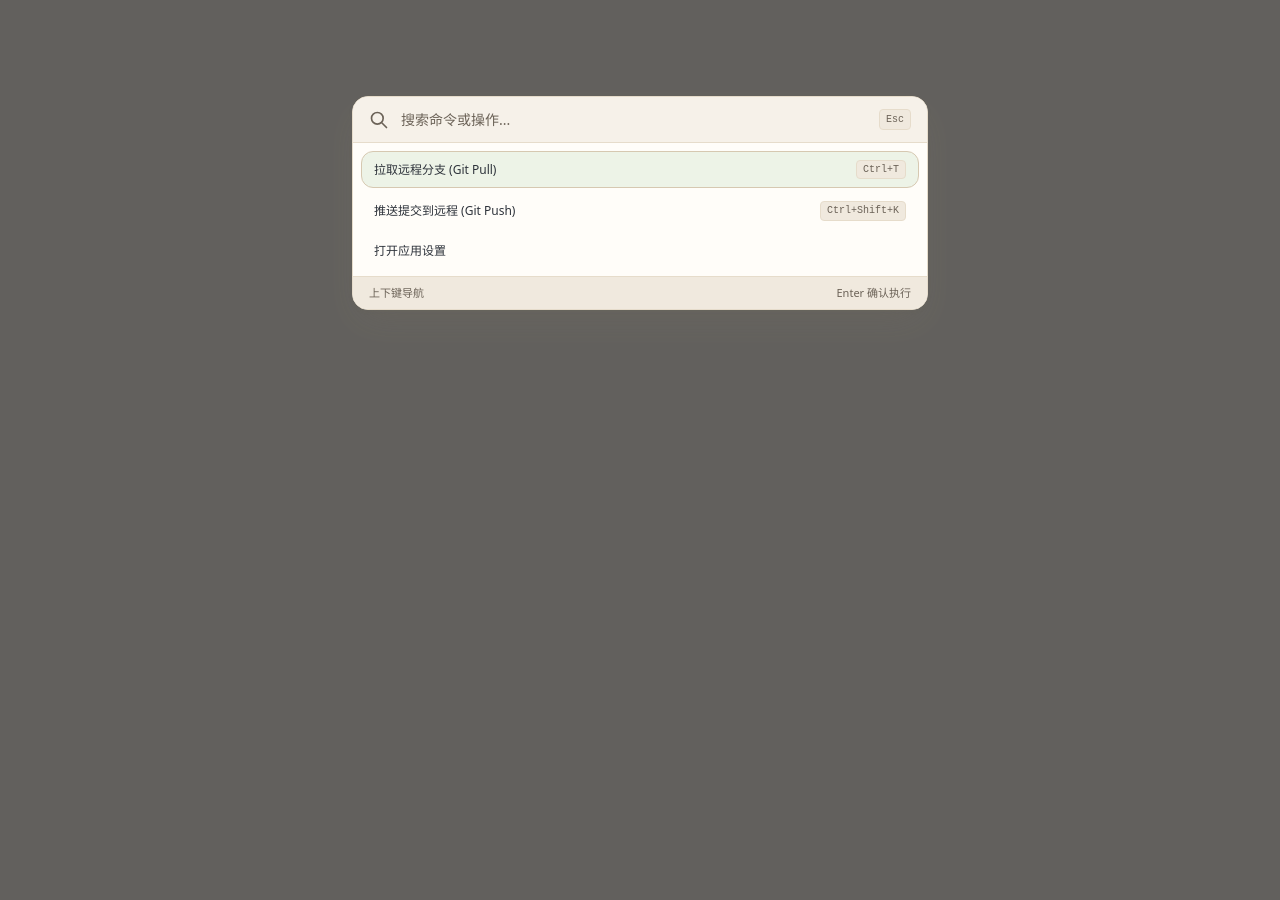
Test: CommandPalette › renders command list and filters by input
Expected: the text "拉取远程分支 (Git Pull)" is shown, [374, 162, 496, 178]
Expected: the text "推送提交到远程 (Git Push)" is shown, [374, 203, 516, 219]
Type "推送" into the field with placeholder "搜索命令或操作...".
click(634, 120); type("推送")  # box [401, 110, 867, 130]
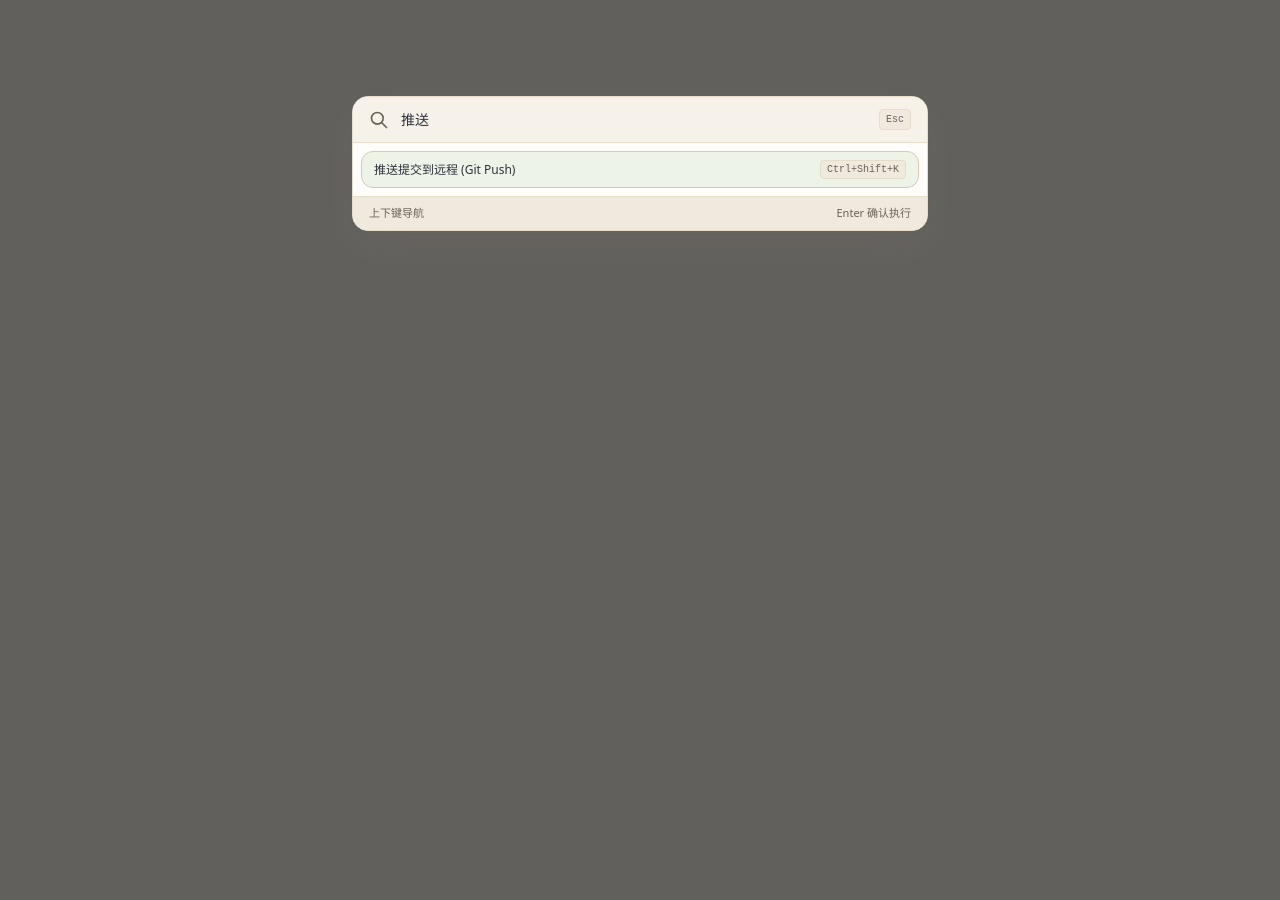
Expected: the text "推送提交到远程 (Git Push)" is shown, [374, 162, 516, 178]
Result: the text "拉取远程分支 (Git Pull)" is gone
